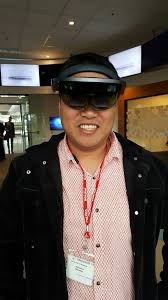hololens: (52, 74, 129, 112)
